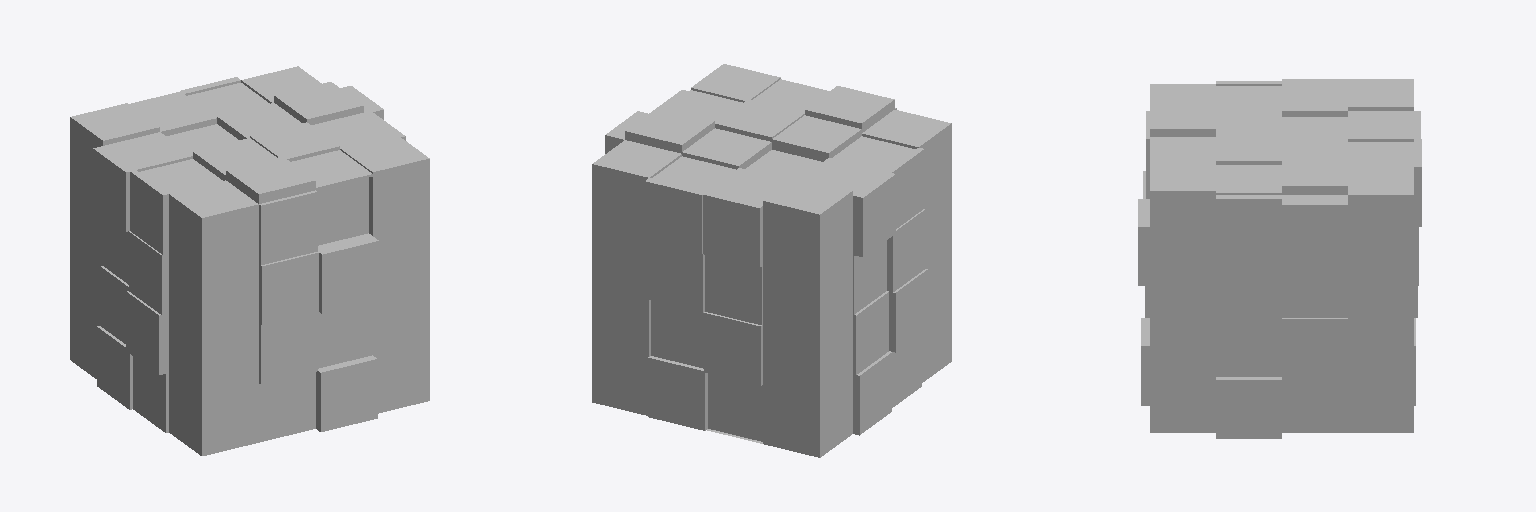
File: wallv2.obj
The picture shows the model from 3 angles: view 1: azimuth 30°, elevation 25°; view 2: azimuth 150°, elevation 25°; view 3: azimuth 270°, elevation 25°; orthographic projection.
Visible parts, largest first — view 1: Cube; view 2: Cube; view 3: Cube.
Boxes of the visible parts, x1=… form: Cube: x1=70, y1=66, x2=429, y2=455; Cube: x1=592, y1=64, x2=951, y2=457; Cube: x1=1138, y1=79, x2=1421, y2=438.
Bounding box in the file's own units: 2.27 × 2.08 × 2.17.